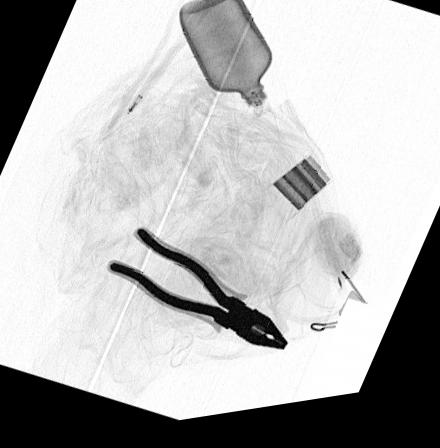Pliers: (106, 227, 290, 362)
